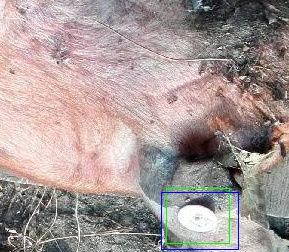text: (166, 188, 229, 243)
